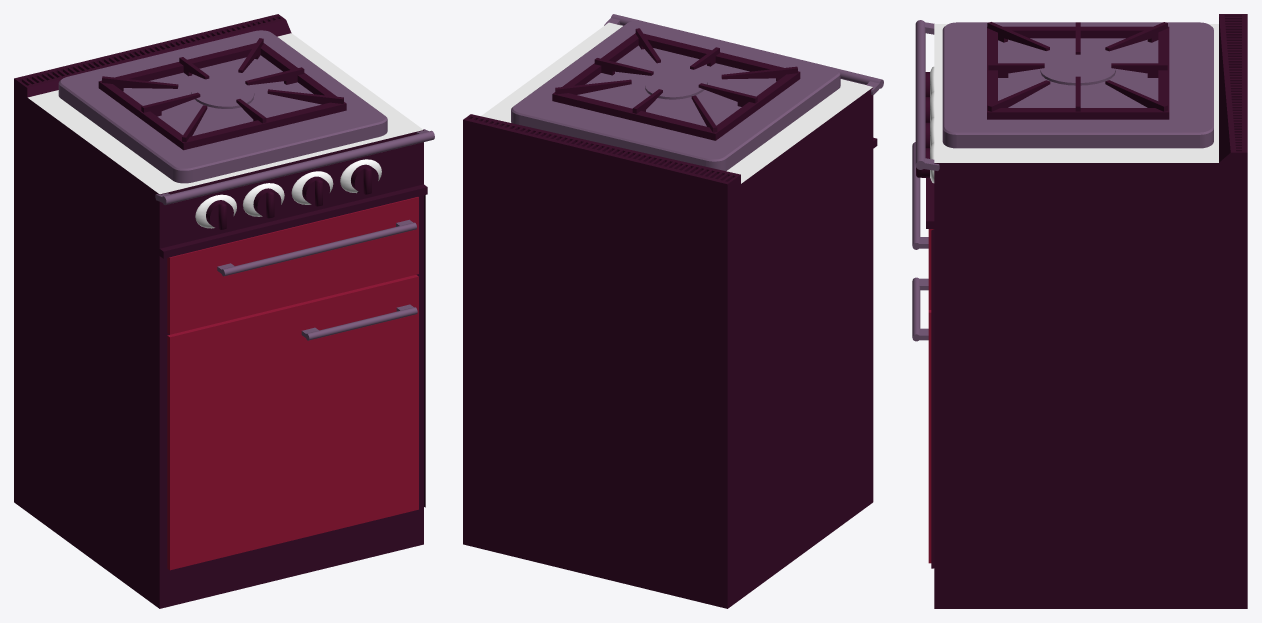
File: Gas stove1.fbx
3 renders of one model, left to right at view 1: azimuth 30°, elevation 25°; view 2: azimuth 150°, elevation 25°; view 3: azimuth 270°, elevation 25°, orthographic. The views are drawn at different scales.
Parts seen in each view (by area): view 1: Gas Stove; view 2: Gas Stove; view 3: Gas Stove.
Part boxes in pixels (x1=…): Gas Stove: x1=14, y1=14, x2=434, y2=608; Gas Stove: x1=463, y1=14, x2=883, y2=608; Gas Stove: x1=912, y1=14, x2=1247, y2=608.
Size of the model in its own units: 6577 by 10319 by 6608.
